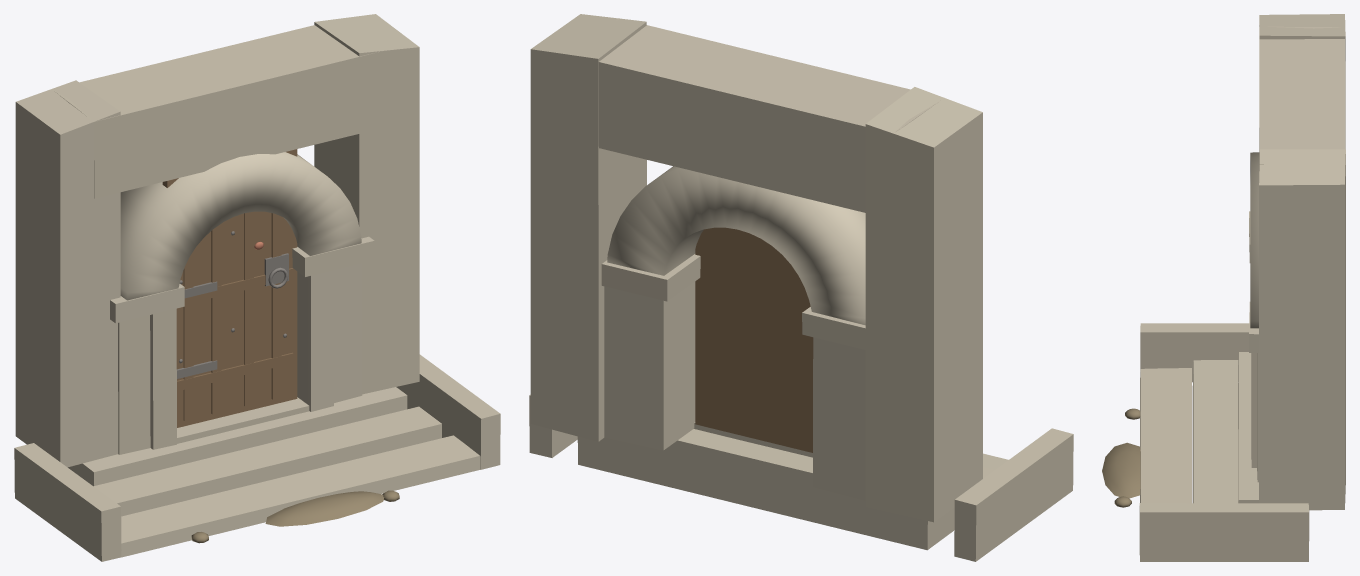
The model's file is parish_porch.glb.
3 views of the same model, side by side, from view 1: azimuth 30°, elevation 25°; view 2: azimuth 150°, elevation 25°; view 3: azimuth 270°, elevation 25° (orthographic). The views are drawn at different scales.
Visible parts, largest first — view 1: Porch_Stone, Porch_Steps, Porch_Door; view 2: Porch_Stone, Porch_Steps, Porch_Door; view 3: Porch_Stone, Porch_Steps.
Part boxes in pixels (x1,y1,x2,y2): Porch_Stone: (15, 14, 419, 467); Porch_Steps: (14, 354, 500, 561); Porch_Door: (162, 149, 297, 427); Porch_Stone: (530, 14, 982, 522); Porch_Steps: (529, 394, 1073, 561); Porch_Door: (695, 227, 813, 452); Porch_Stone: (1249, 14, 1345, 510); Porch_Steps: (1102, 323, 1309, 561).
Size of the model in its own units: 3.45 by 3.23 by 1.88.
